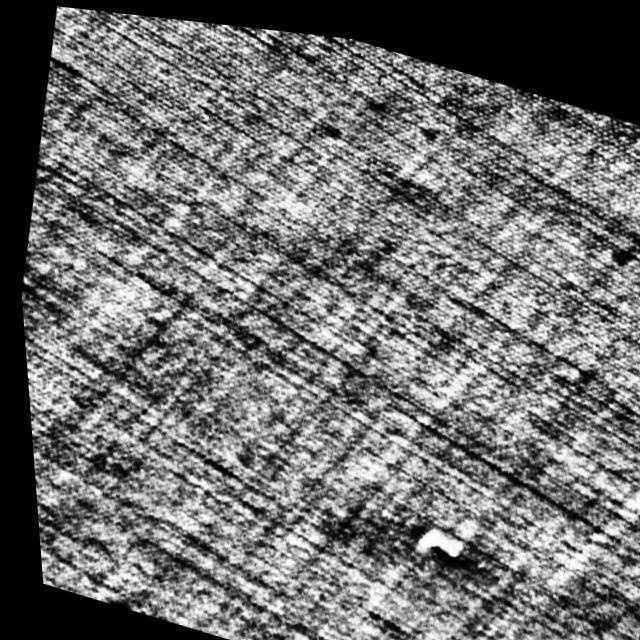Hole: (408, 520, 472, 566)
